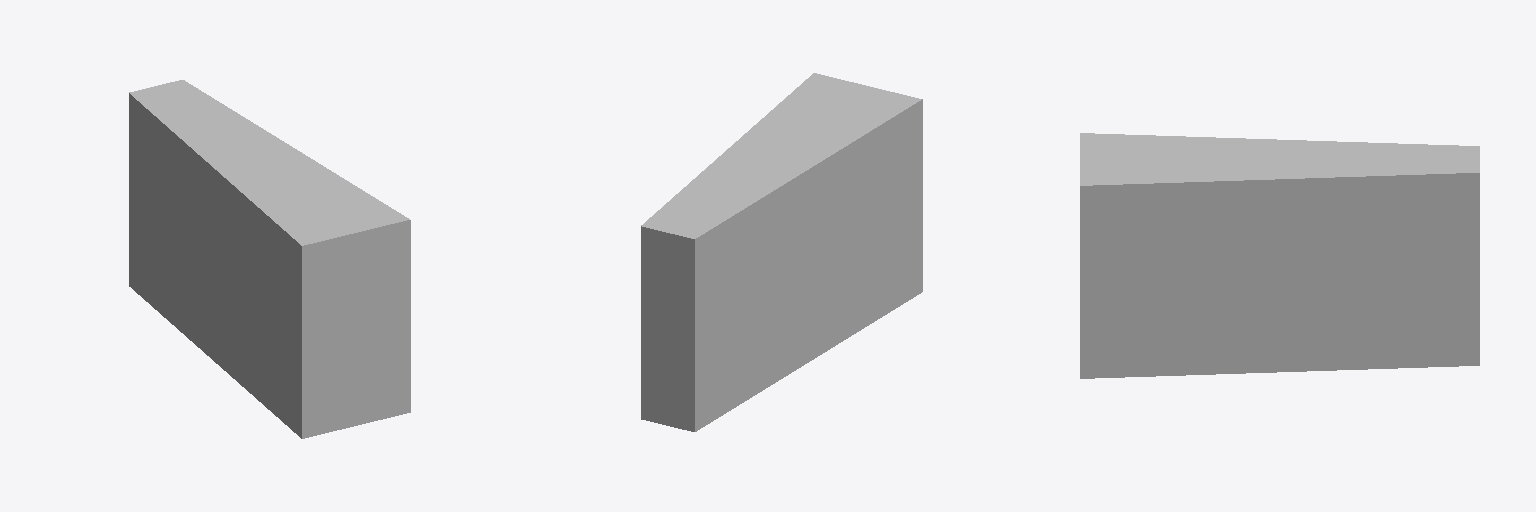
Rendered from corbel_large_extension.obj.
The picture shows the model from 3 angles: view 1: azimuth 30°, elevation 25°; view 2: azimuth 150°, elevation 25°; view 3: azimuth 270°, elevation 25°; orthographic projection.
Parts seen in each view (by area): view 1: cuboid_selection; view 2: cuboid_selection; view 3: cuboid_selection.
Boxes of the visible parts, <box> form: cuboid_selection: <box>129,80,410,438</box>; cuboid_selection: <box>641,73,922,431</box>; cuboid_selection: <box>1080,133,1479,378</box>.
Size of the model in its own units: 0.625 by 1.06 by 2.